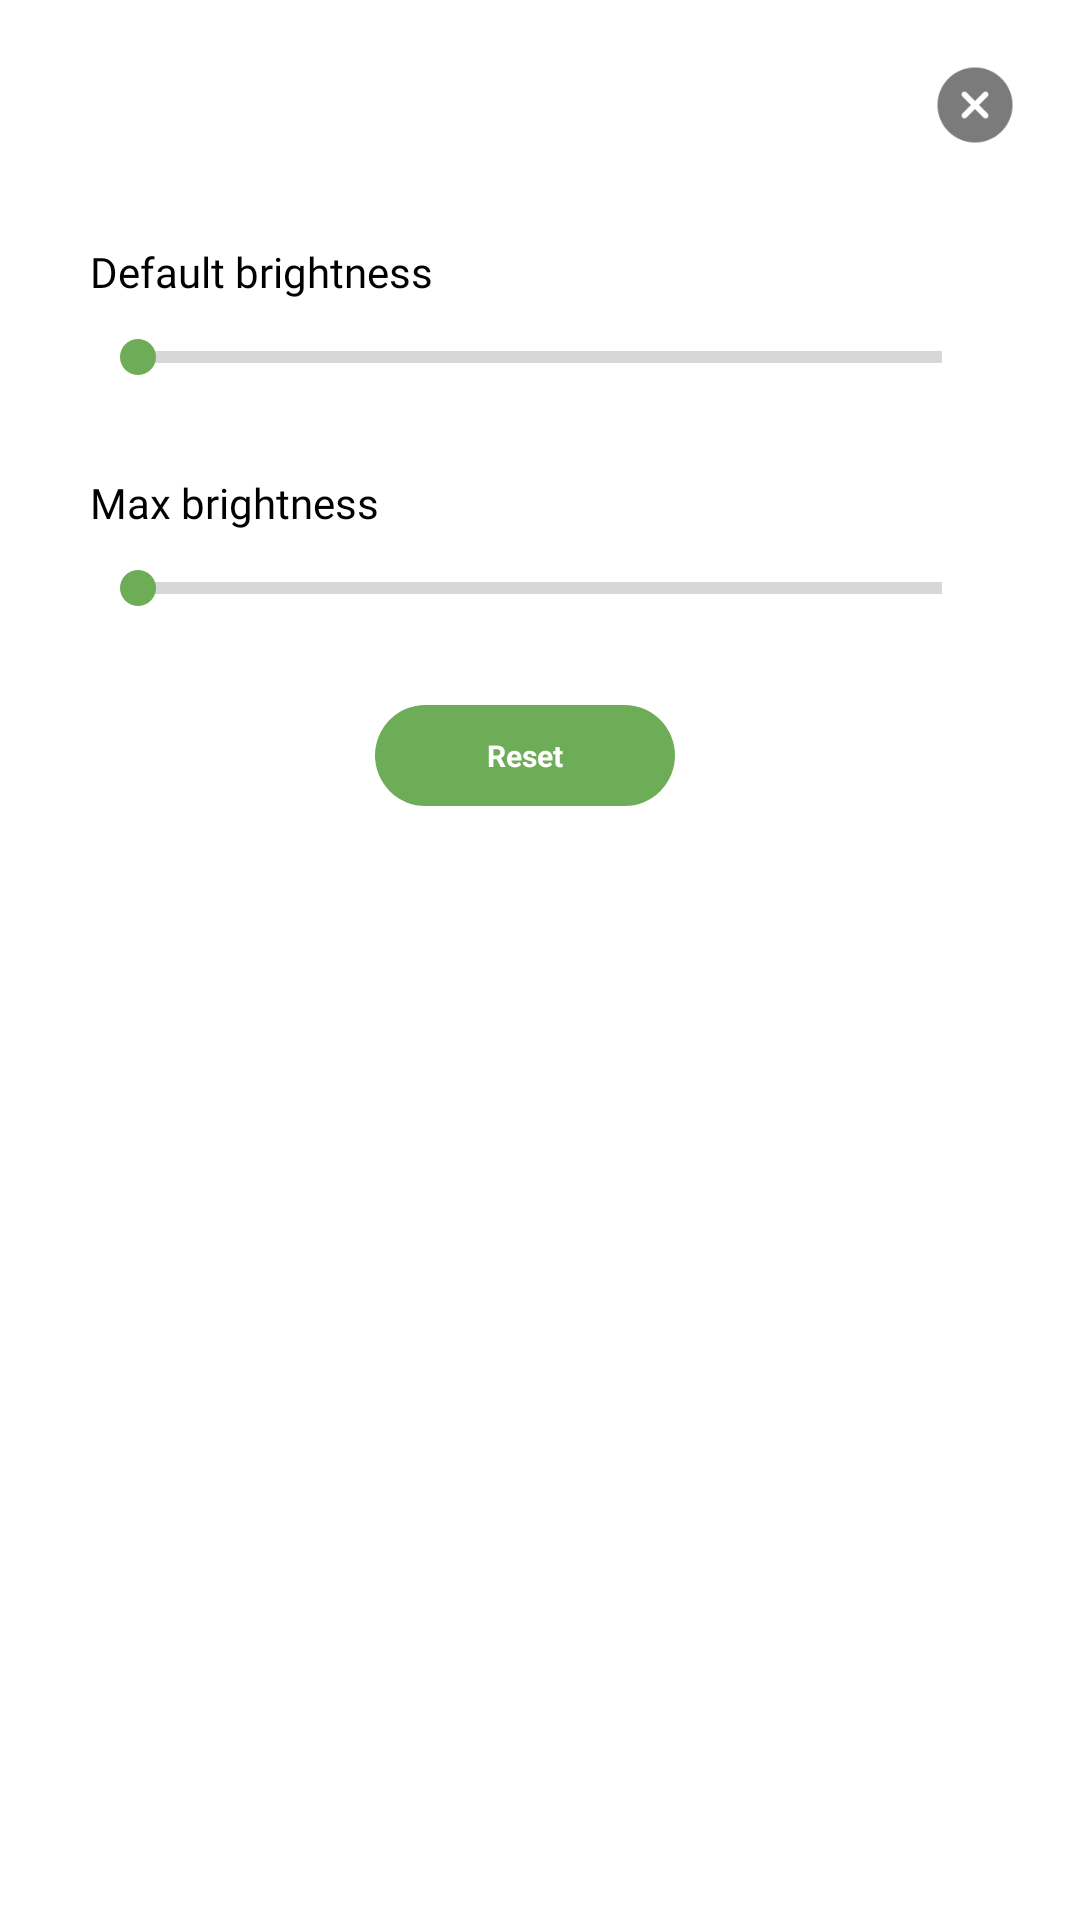

Where icons sit on this 1080*1920 app screen, as BBox(x1, y1, x2, y2):
close: BBox(937, 67, 1013, 143)
